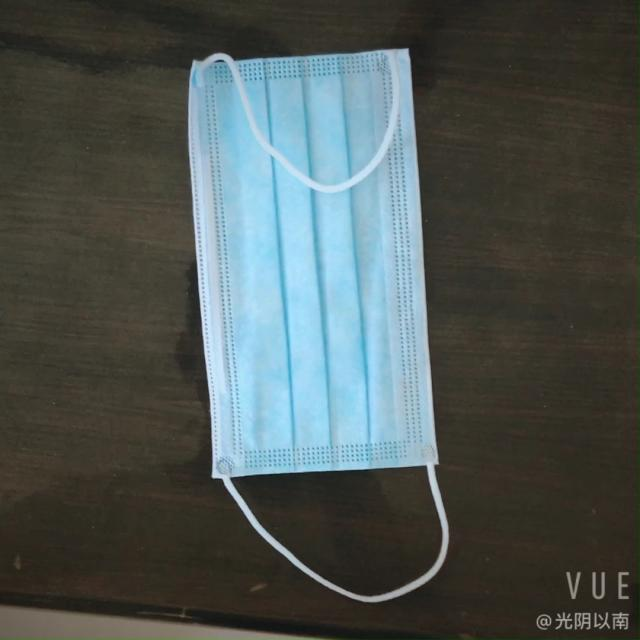non-organic waste: (187, 42, 432, 477)
